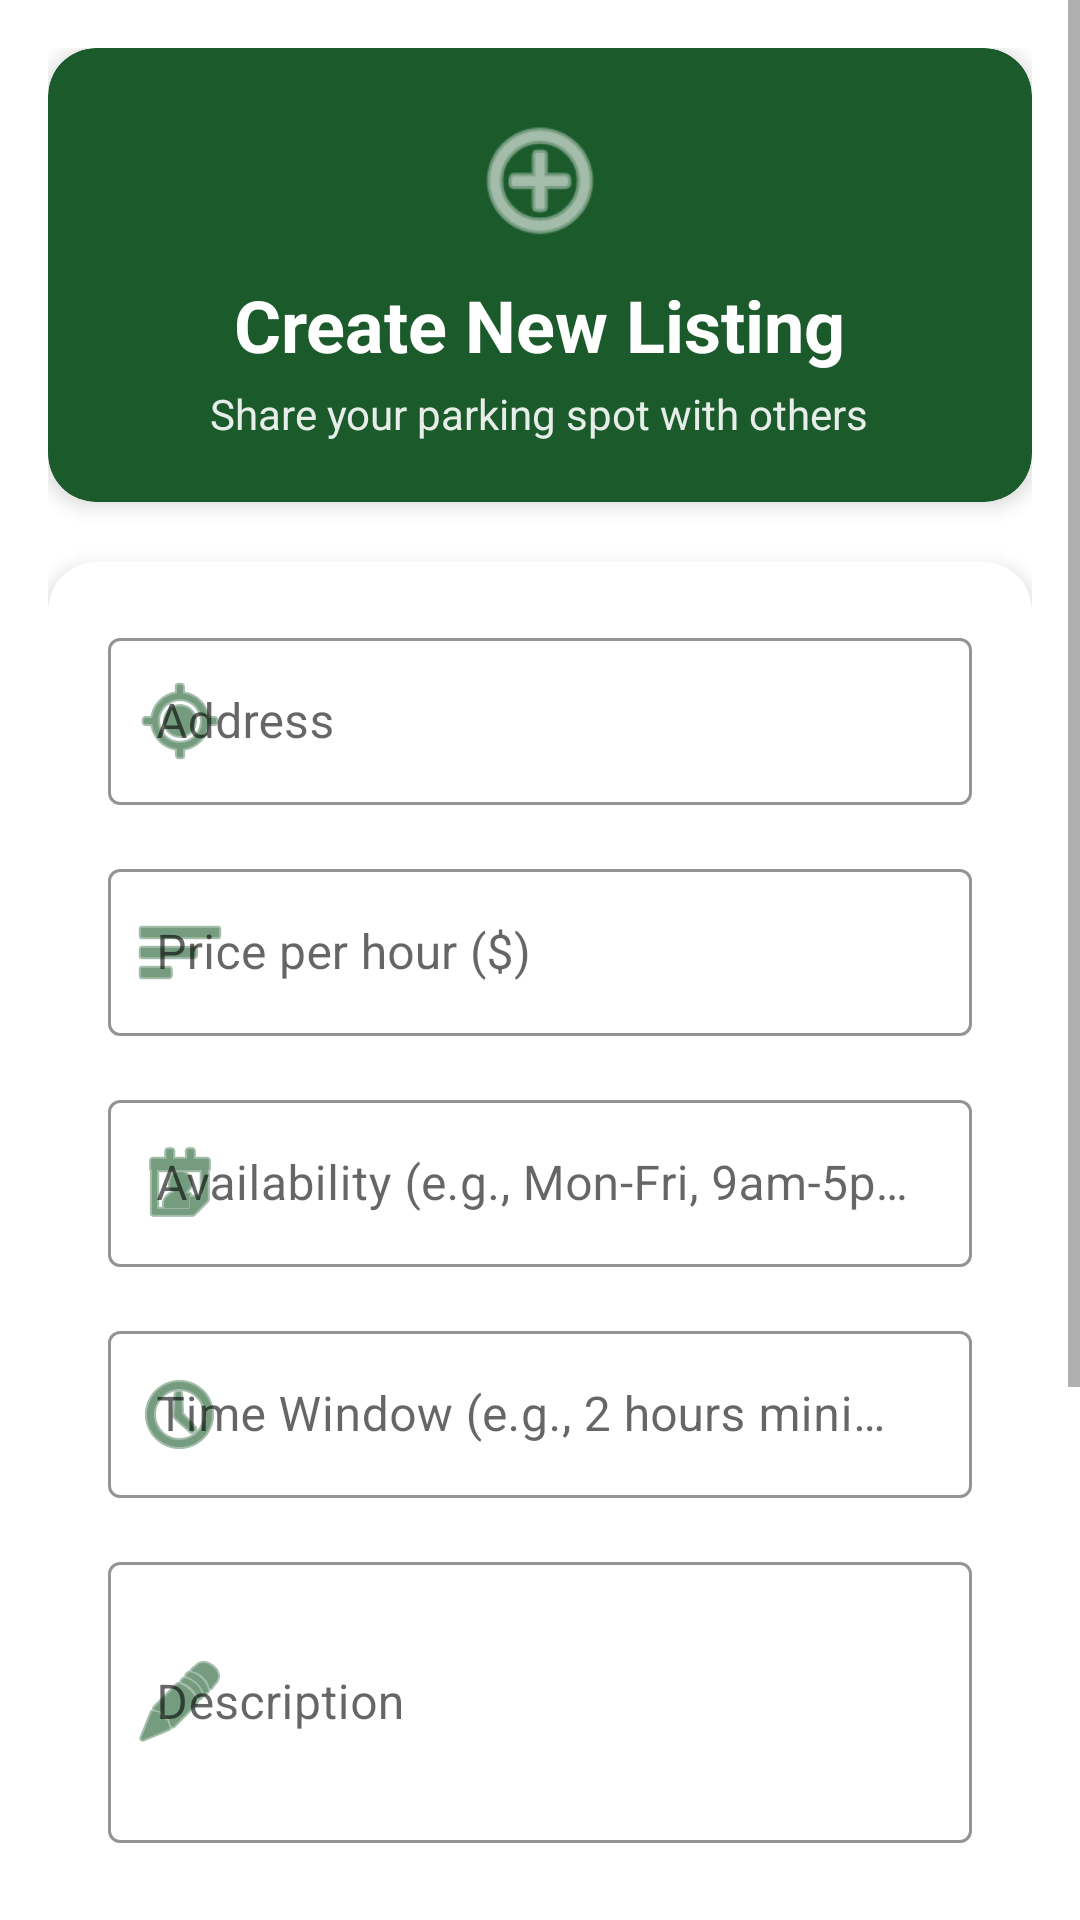

Locate icon controls on the screen. Image size 1080x1920, boxes as bbox=(x1, y1, x2, y2).
add: bbox=(486, 127, 594, 234)
